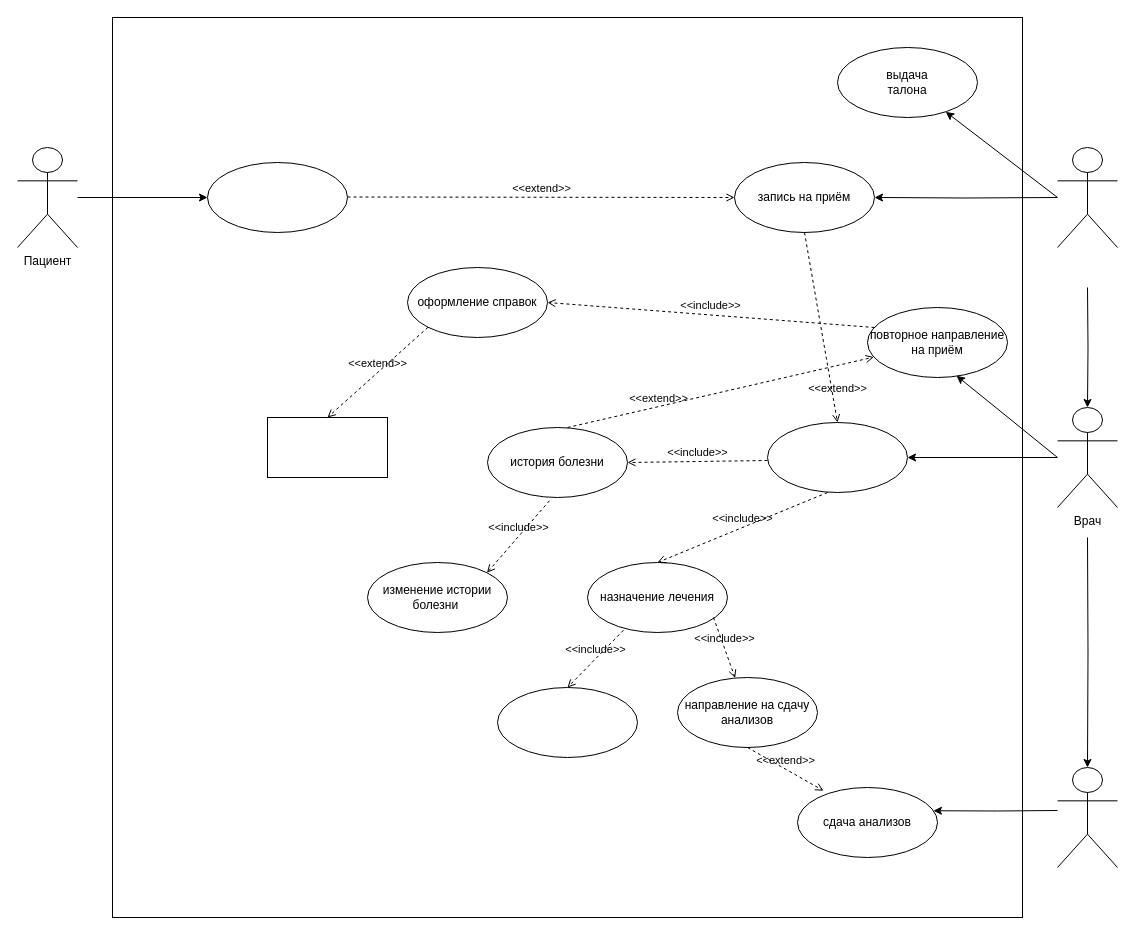
This 1144x935 diagram has some shape labels left out. The centre of each missing label's shape, as x and y in pixels:
"больничный лист" belongs at point (837, 457).
"выписка" belongs at point (327, 447).
"выписка рецепта лекарств" belongs at point (567, 722).
"Лаборант" belongs at point (1087, 817).
"Работник регистратуры" belongs at point (1087, 197).
"регистрация пациента" belongs at point (277, 197).
